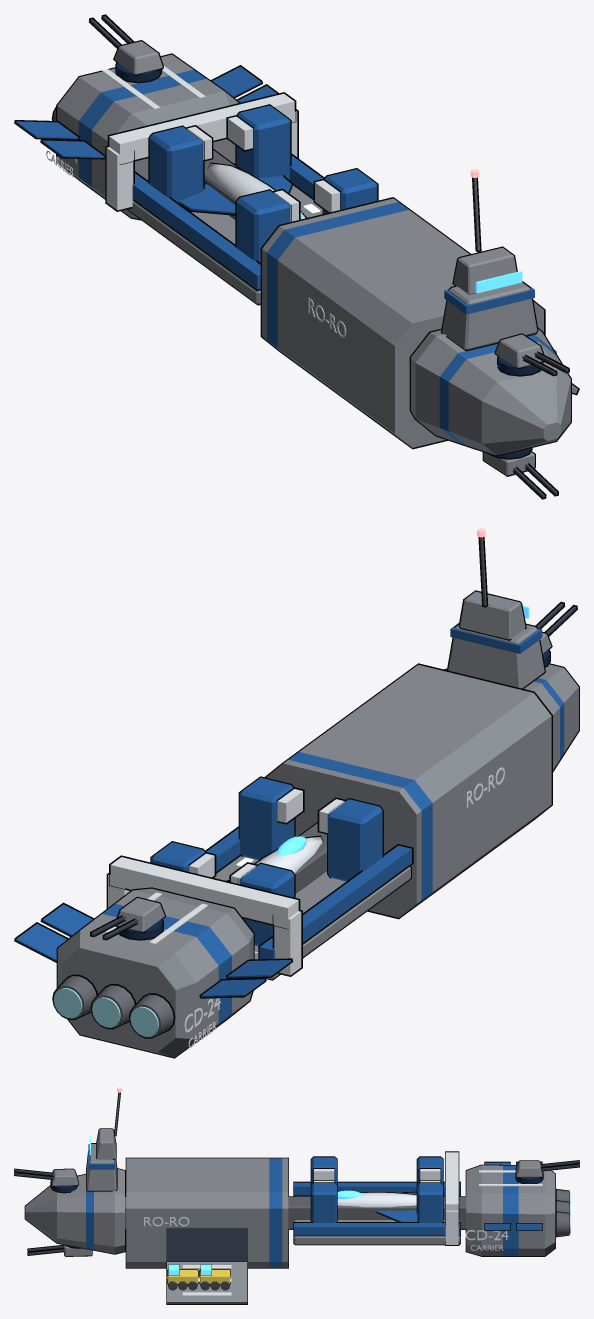
The model's file is Cargo_Destroyer_Carrier.fbx.
The picture shows the model from 3 angles, top to bottom: view 1: azimuth 30°, elevation 25°; view 2: azimuth 150°, elevation 25°; view 3: azimuth 270°, elevation 25°; orthographic projection. The views are drawn at different scales.
Visible parts, largest first — view 1: RoRo_Hangar, Bow.003, Engine.003, Bridge_A.003, Cradle_Rail-, Clamp0-10.3, Cradle_Arch, Clamp010.3, Cradle_Deck, Clamp0-1-0.3, Bridge_B.003, Cradle_ArchLeg-1 (+14 smaller); view 2: RoRo_Hangar, Engine.003, Cradle_Arch, Clamp0-1-0.3, Bridge_A.003, Cradle_Rail-, Clamp01-0.3, Cradle_Deck, Bow.003, Bridge_B.003, Clamp0-10.3, Cradle_ArchLeg-1 (+17 smaller); view 3: RoRo_Hangar, Engine.003, Bow.003, RoRo_Opening, Cradle_Rail+, RoRo_Ramp, Spine.003, Cradle_Deck, Cradle_Rail-, Clamp01-0.3, Clamp010.3, Craft0_Body (+12 smaller).
Part boxes in pixels (x1,y1,x2,y2): RoRo_Hangar: (260, 197, 545, 449); Bow.003: (409, 327, 571, 456); Engine.003: (56, 53, 239, 220); Bridge_A.003: (440, 281, 538, 351); Cradle_Rail-: (132, 171, 260, 291); Clamp0-10.3: (148, 125, 204, 203); Cradle_Arch: (107, 92, 296, 164); Clamp010.3: (235, 104, 291, 179); Cradle_Deck: (127, 163, 322, 305); Clamp0-1-0.3: (235, 189, 291, 262); Bridge_B.003: (452, 246, 518, 294); Cradle_ArchLeg-1: (105, 146, 134, 211); RoRo_Hangar: (264, 663, 552, 919); Engine.003: (56, 887, 254, 1058); Cradle_Arch: (109, 855, 300, 929); Clamp0-1-0.3: (327, 798, 383, 881); Bridge_A.003: (447, 623, 545, 688); Cradle_Rail-: (258, 844, 413, 959); Clamp01-0.3: (238, 776, 295, 859); Cradle_Deck: (214, 856, 411, 980); Bow.003: (444, 663, 579, 772); Bridge_B.003: (458, 590, 526, 640); Clamp0-10.3: (238, 862, 295, 945); Cradle_ArchLeg-1: (272, 910, 302, 976); RoRo_Hangar: (125, 1157, 288, 1268); Engine.003: (465, 1164, 555, 1256); Bow.003: (24, 1168, 125, 1254); RoRo_Opening: (166, 1227, 247, 1262); Cradle_Rail+: (293, 1222, 460, 1236); RoRo_Ramp: (166, 1261, 247, 1304); Spine.003: (125, 1196, 466, 1229); Cradle_Deck: (293, 1196, 460, 1245); Cradle_Rail-: (293, 1181, 460, 1195); Clamp01-0.3: (310, 1182, 337, 1222); Clamp010.3: (416, 1182, 443, 1222); Craft0_Body: (337, 1192, 416, 1207).
Size of the model in its own units: 32.34 by 34.49 by 101.
